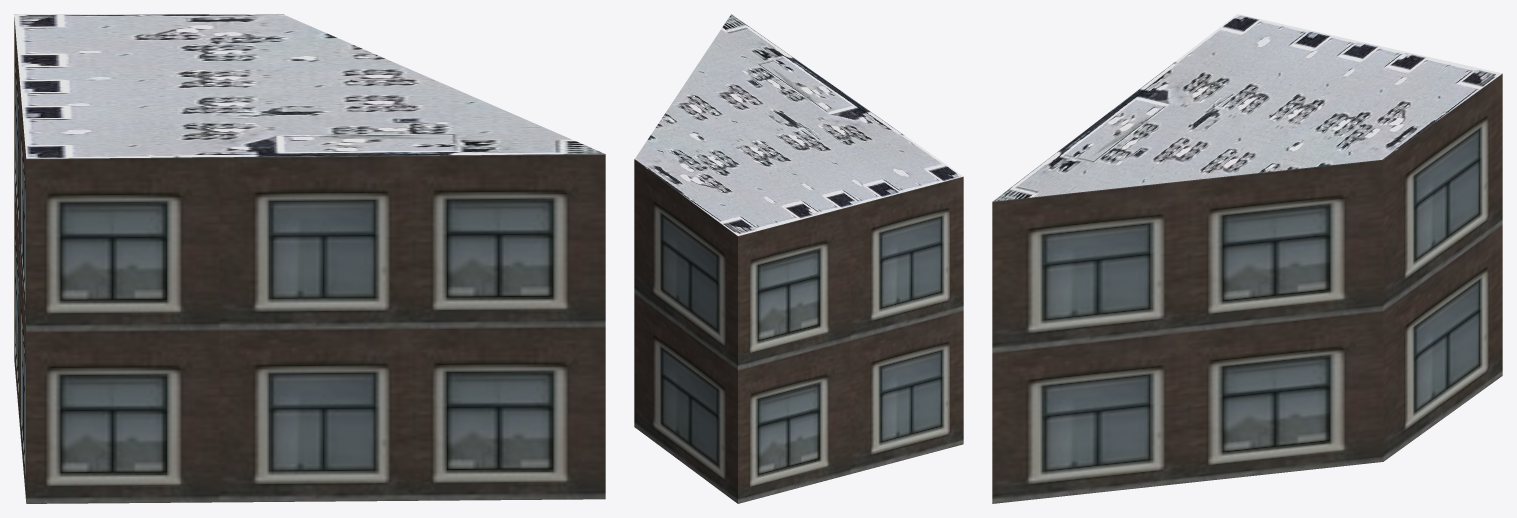
File: ResTex__750.fbx
The picture shows the model from 3 angles, left to right: view 1: azimuth 30°, elevation 25°; view 2: azimuth 150°, elevation 25°; view 3: azimuth 270°, elevation 25°; orthographic projection. The views are drawn at different scales.
Parts seen in each view (by area): view 1: CityEngineMaterial_16_m, CityEngineMaterial_15_m; view 2: CityEngineMaterial_16_m, CityEngineMaterial_15_m; view 3: CityEngineMaterial_16_m, CityEngineMaterial_15_m.
Part boxes in pixels (left/top/right/bottom): CityEngineMaterial_16_m: left=14, top=17, right=605, bottom=503; CityEngineMaterial_15_m: left=14, top=14, right=604, bottom=158; CityEngineMaterial_16_m: left=634, top=159, right=963, bottom=503; CityEngineMaterial_15_m: left=634, top=14, right=962, bottom=235; CityEngineMaterial_16_m: left=992, top=74, right=1502, bottom=503; CityEngineMaterial_15_m: left=993, top=14, right=1502, bottom=201.
Bounding box in the file's own units: 7.99 × 6 × 9.18.
2 materials, 2 textured.
